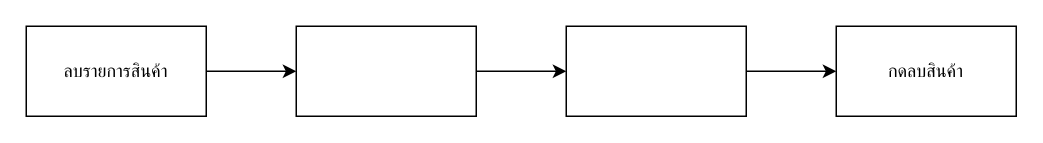
This 1043x143 diagram has some shape labels left out. Each missing label, with the centre of its shape:
"เข้าไปในตระกร้าสินค้า" goes at (x=385, y=70).
"เลือกสินค้าที่ต้องการ" goes at (x=655, y=70).
